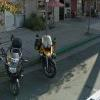Motorcycle: (30, 29, 60, 79)
